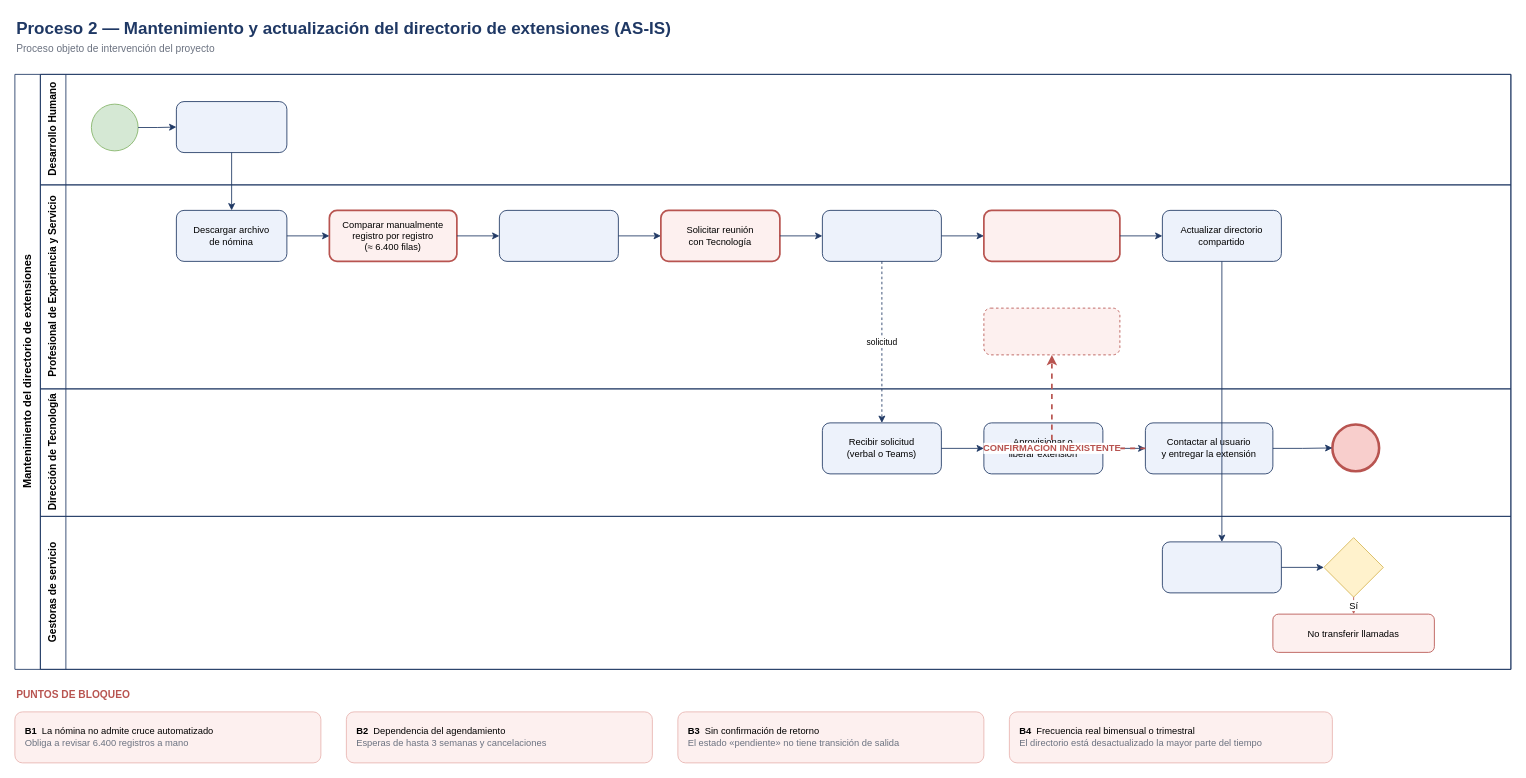
This 1526x778 diagram has some shape labels left out. Each missing label, with the centre of its shape:
Cierre de mes: (114,127)
Consultar directorio (solo lectura): (1221,567)
Espera indefinida: no llega confirmación: (1051,331)
Fin: (1355,447)
Identificar novedades (5 a 10 por mes): (558,235)
Marcar registro como PENDIENTE POR APROVISIONAR: (1051,235)
Publicar nómina del mes vencido: (231,127)
Revisar novedades en reunión de 2 a 3 h: (881,235)
¿Registro pendiente?: (1353,567)
